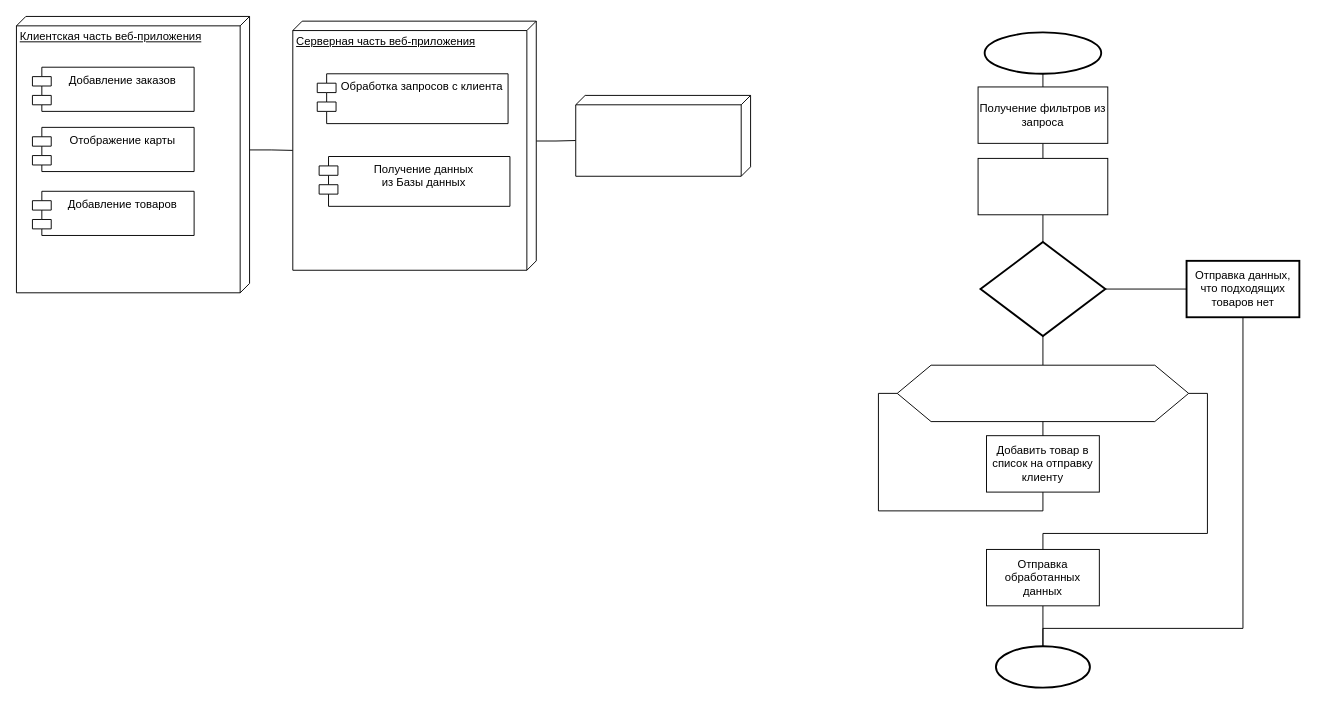
Image size: 1317x705. Some labels were removed from this diagram. Here are the shapes that lost their labels. From the top down, the centre of each, then its label:
At (1042,52): "Начало".
At (663,135): "База данных".
At (1042,186): "Отправка запроса в БД с учетом фильтров".
At (1042,289): "Запрос вернул значения".
At (1042,393): "i = 0 ; i < колличества предметов из БД; i++".
At (1042,666): "Конец".
